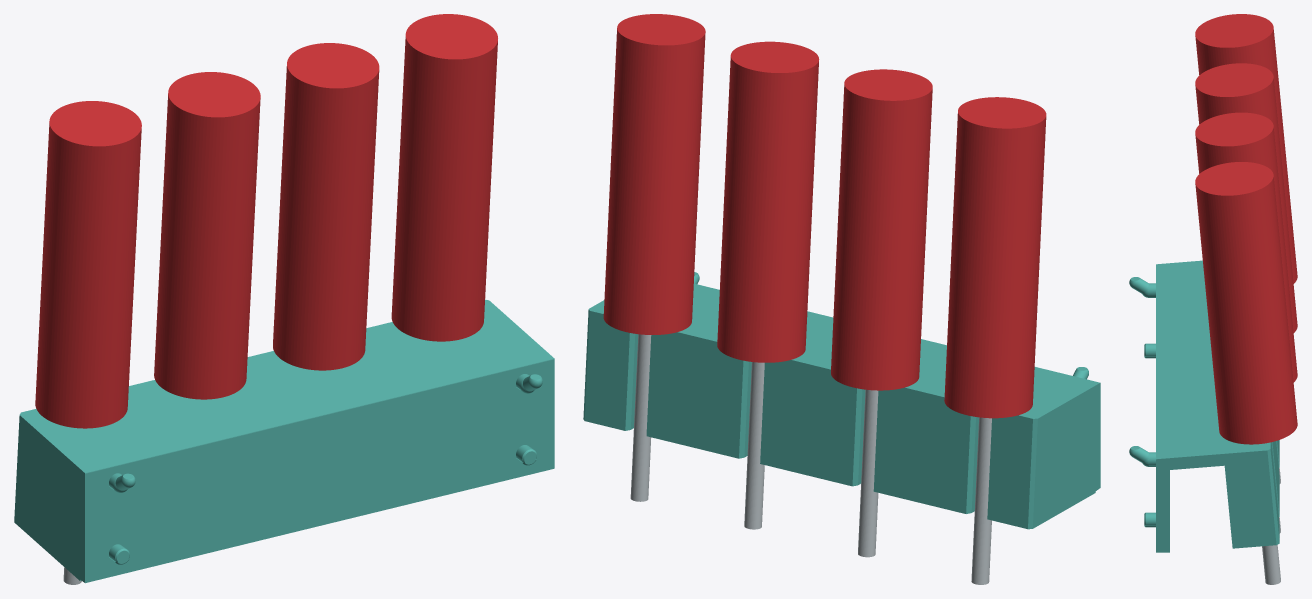
File: part-mh02-magnetic-shaft-holder-6mm-round__v1__loaded.glb
3 renders of one model, left to right at view 1: azimuth 30°, elevation 25°; view 2: azimuth 150°, elevation 25°; view 3: azimuth 270°, elevation 25°, orthographic. The views are drawn at different scales.
Visible parts, largest first — view 1: handles-reference, Actual holder mesh; view 2: handles-reference, Actual holder mesh, shafts-reference; view 3: handles-reference, Actual holder mesh, shafts-reference.
Boxes of the visible parts, x1,y1,x2,y2 form: handles-reference: (35, 14, 497, 428); Actual holder mesh: (14, 299, 554, 583); handles-reference: (603, 14, 1046, 418); Actual holder mesh: (583, 272, 1100, 529); shafts-reference: (630, 334, 991, 584); handles-reference: (1195, 14, 1297, 444); Actual holder mesh: (1129, 260, 1279, 552); shafts-reference: (1262, 467, 1280, 584).
Size of the model in its own units: 0.1758 by 0.1709 by 0.0641.
